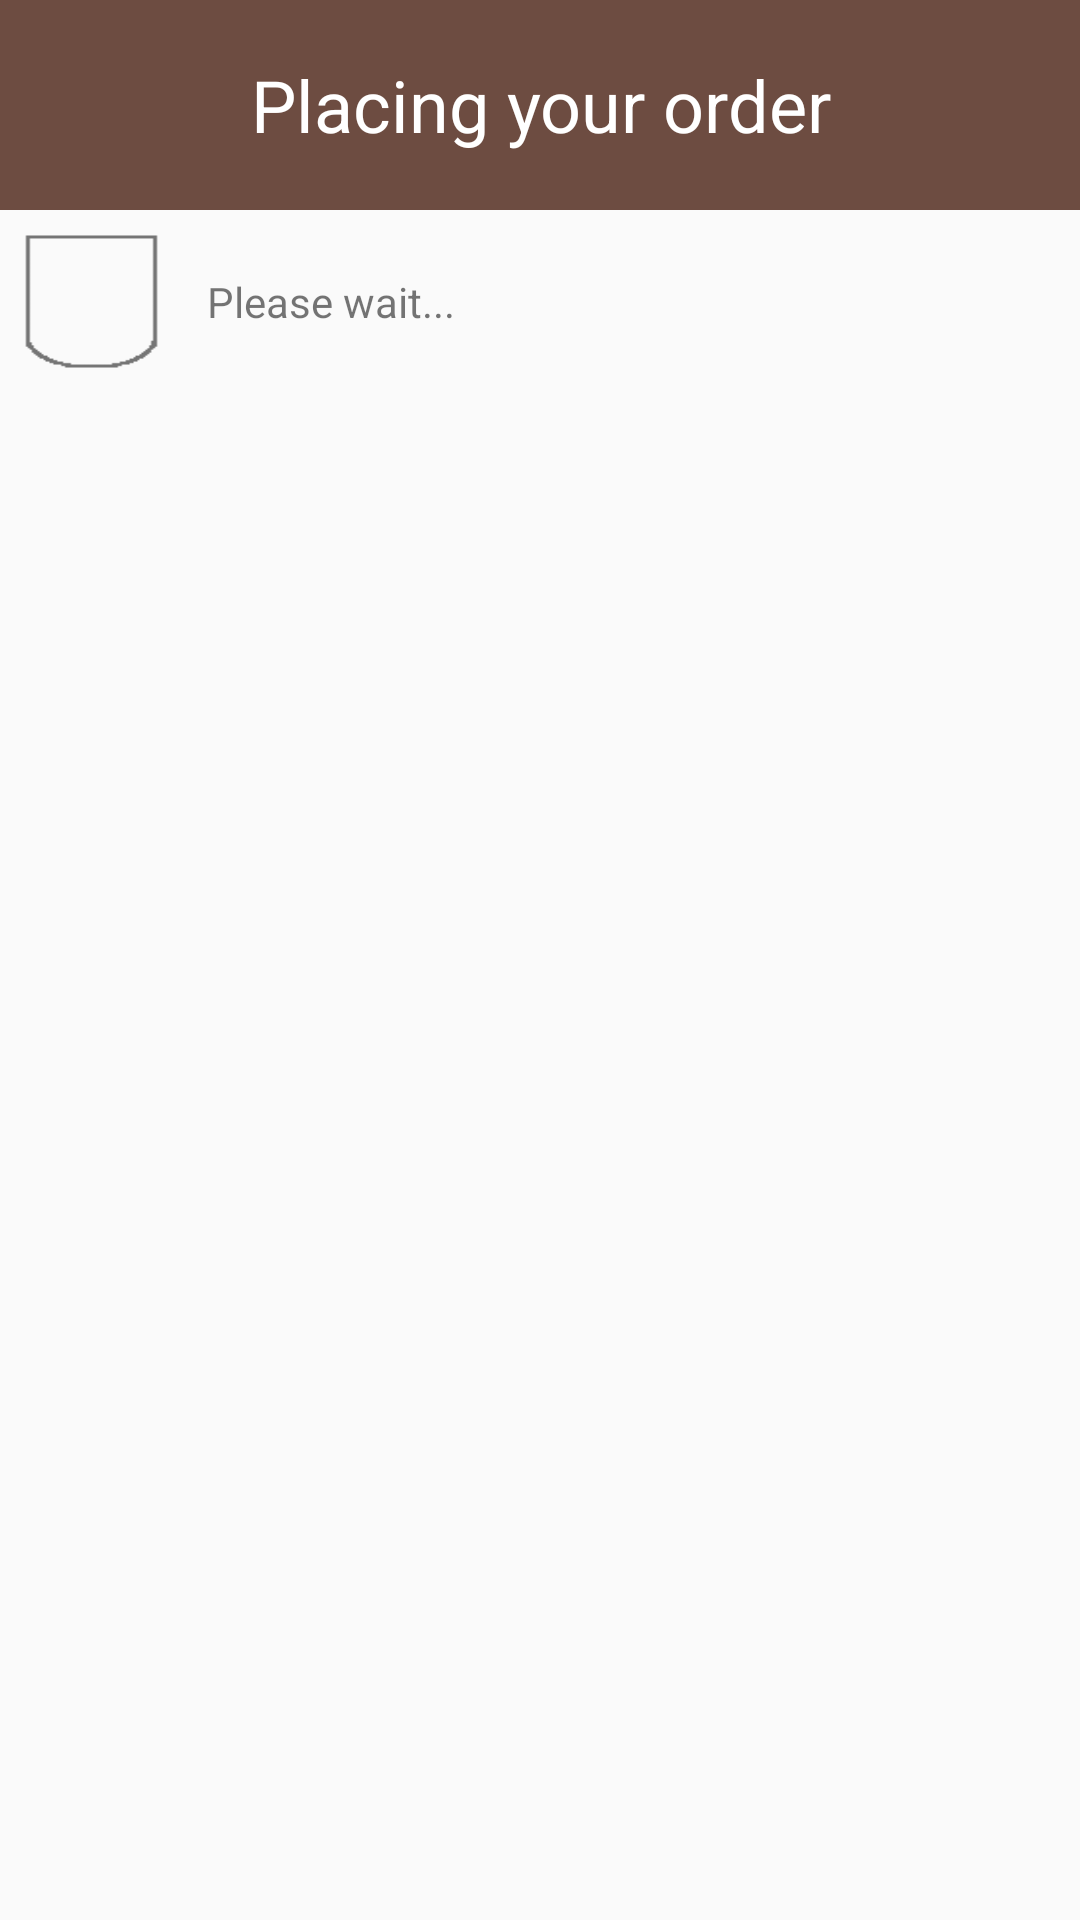

Point at icon controls on the screen. Image size 1080x1920, points as (x=x, y=y).
coffee animation: (x=91, y=301)
